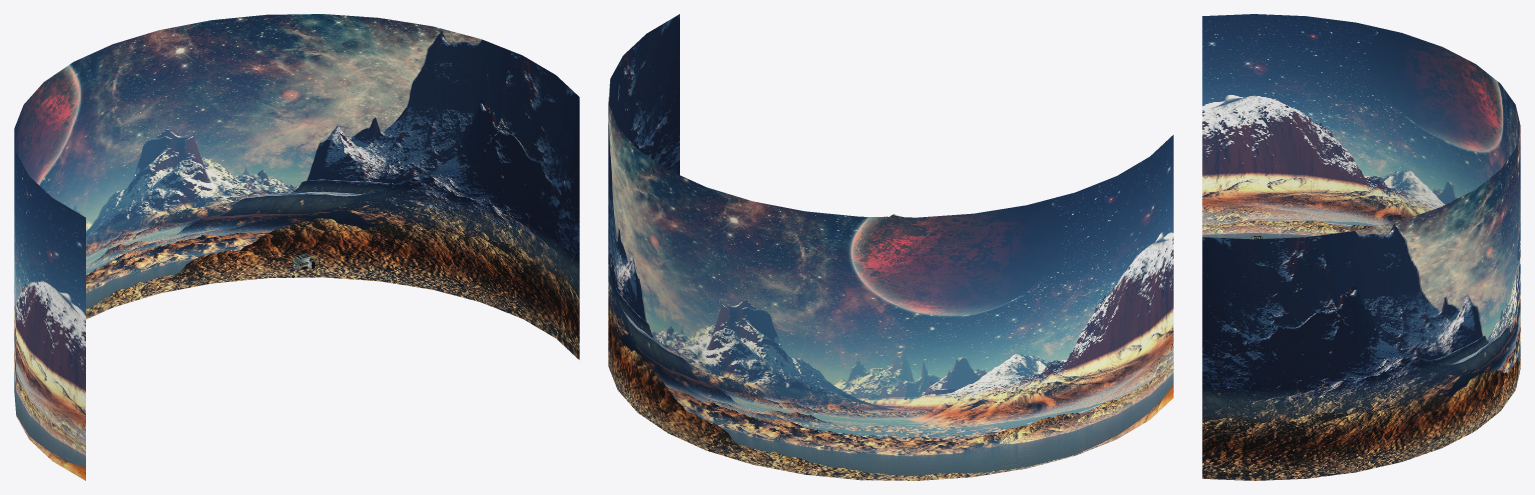
File: room.glb
3 renders of one model, left to right at view 1: azimuth 30°, elevation 25°; view 2: azimuth 150°, elevation 25°; view 3: azimuth 270°, elevation 25°, orthographic. The views are drawn at different scales.
Parts seen in each view (by area): view 1: Wallpaper_1; view 2: Wallpaper_1; view 3: Wallpaper_1.
Part boxes in pixels (x1,y1,x2,y2): Wallpaper_1: (14, 14, 579, 480); Wallpaper_1: (608, 14, 1173, 480); Wallpaper_1: (1202, 14, 1520, 480).
Bounding box in the file's own units: 200 × 100 × 120.
Materials: 2 (2 with a texture image).
